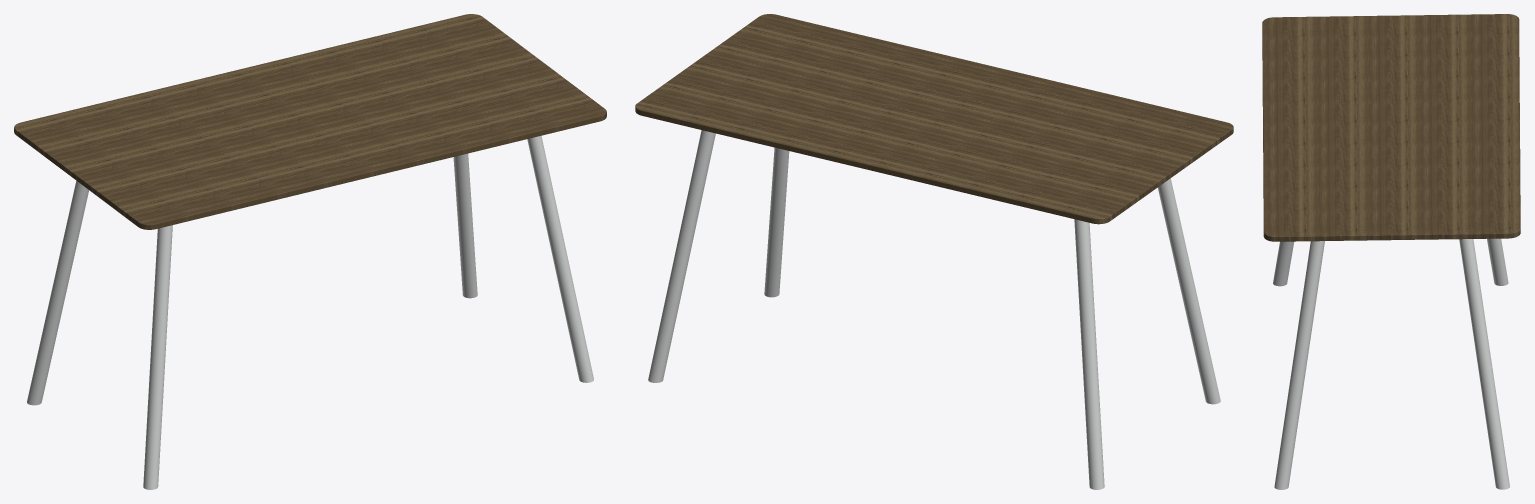
File: table.glb
3 renders of one model, left to right at view 1: azimuth 30°, elevation 25°; view 2: azimuth 150°, elevation 25°; view 3: azimuth 270°, elevation 25°, orthographic. The views are drawn at different scales.
Parts seen in each view (by area): view 1: w_table; view 2: w_table; view 3: w_table.
Boxes of the visible parts, x1,y1,x2,y2 form: w_table: (14,14,606,489); w_table: (635,14,1233,489); w_table: (1262,14,1520,489).
Bounding box in the file's own units: 1.82 × 1.02 × 0.9093.
Materials: 2 (1 with a texture image).
